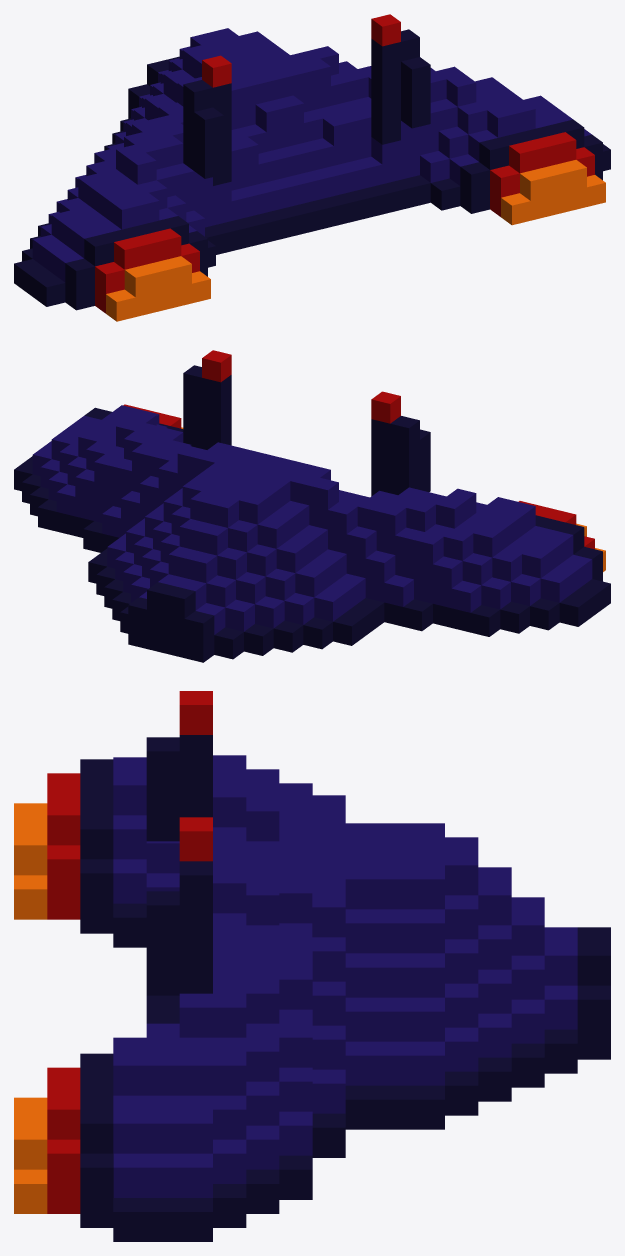
File: SpaceGun.obj
3 views of the same model, one above another, from view 1: azimuth 30°, elevation 25°; view 2: azimuth 150°, elevation 25°; view 3: azimuth 270°, elevation 25° (orthographic). The views are drawn at different scales.
Size of the model in its own units: 60 by 18 by 36.
1 material, 1 textured.
